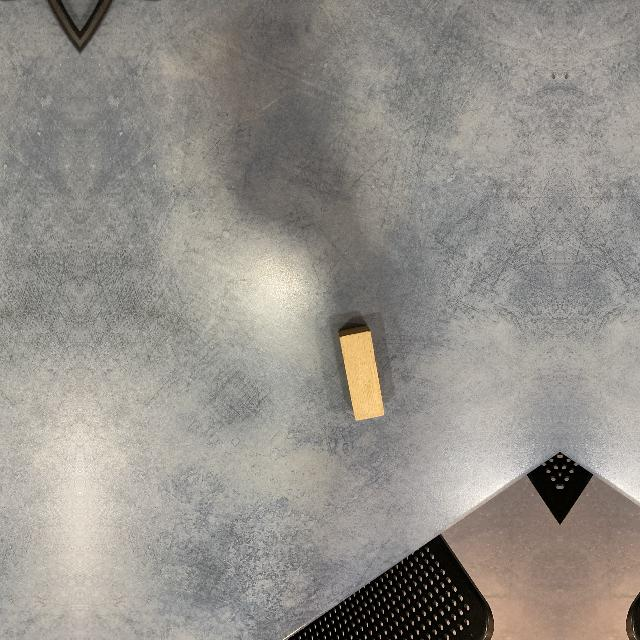jenga: (338, 326, 385, 421)
